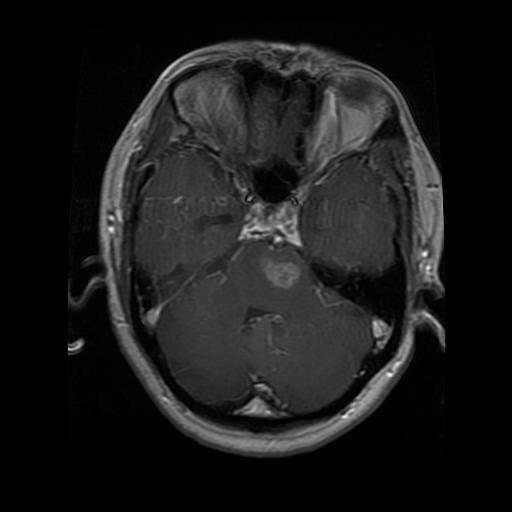Tumour-Glioma: (259, 247, 315, 303)
